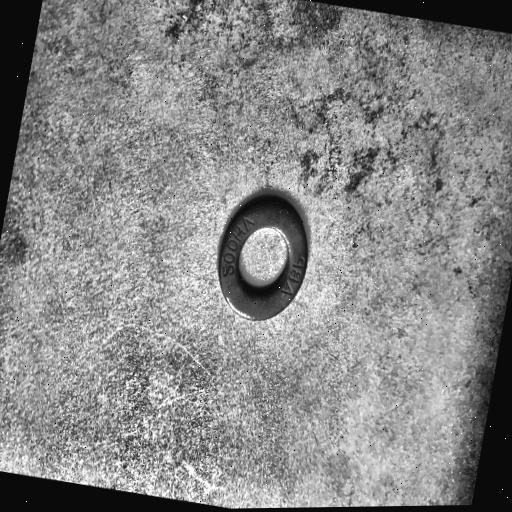Washer: (217, 190, 310, 322)
